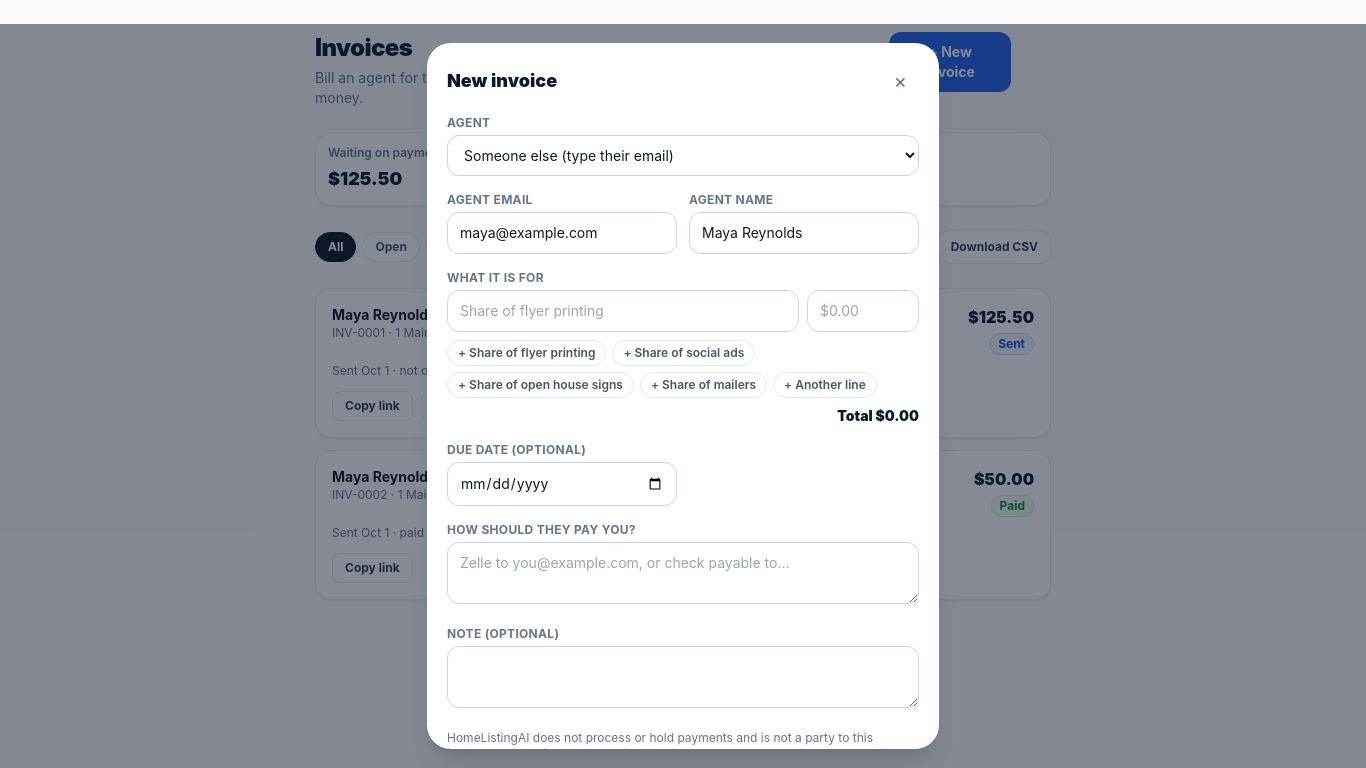
Test: LOInvoicesPage › opens the form pre-filled from the Partners page and sends the invoice
Expected: the field labelled "Agent email" holds "maya@example.com", [447,212,677,254]
Expected: the field labelled "Agent name" holds "Maya Reynolds", [689,212,919,254]
Step 1. Type "Share of flyers" into the field named "Line 1 description" → point(623, 311), box [447,290,799,332]
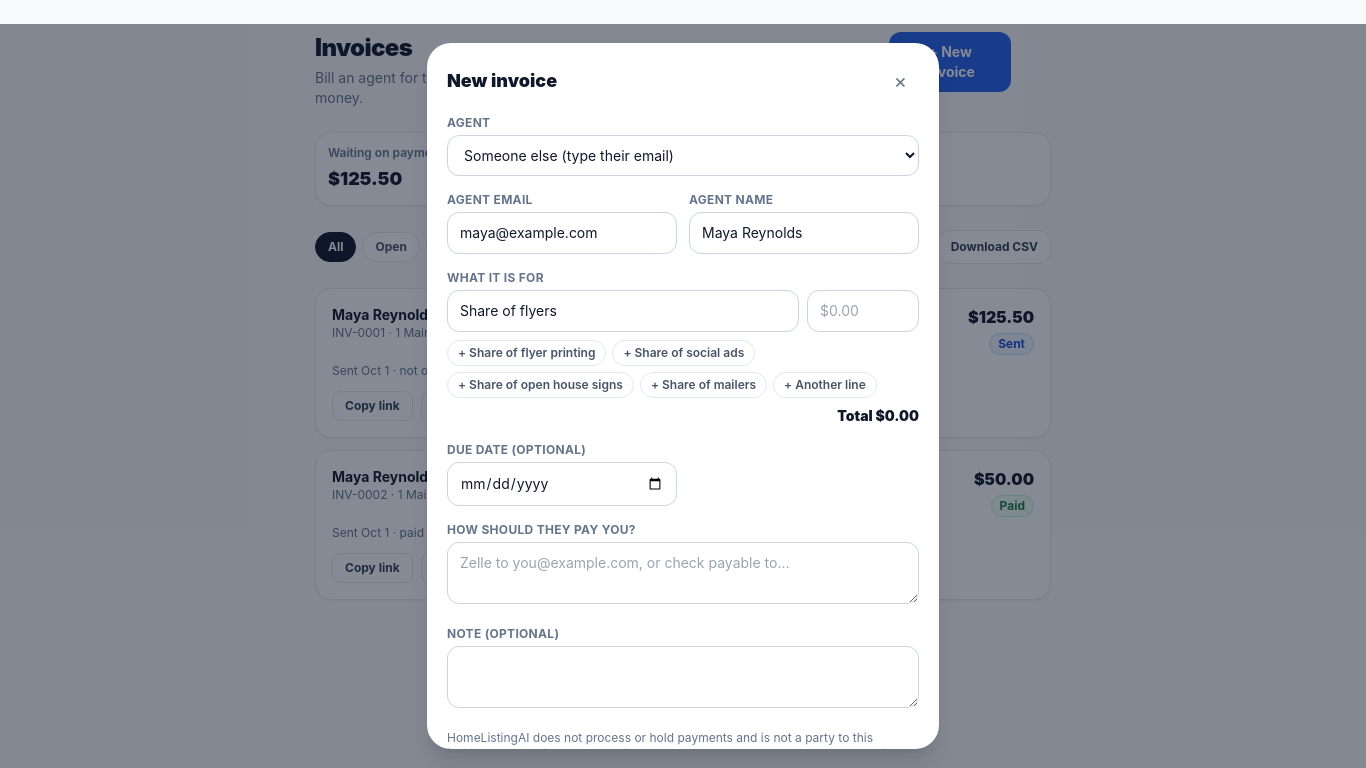
Step 2. Type "125.50" into the field named "Line 1 amount" → point(863, 311), box [807,290,919,332]
(page scrolled)
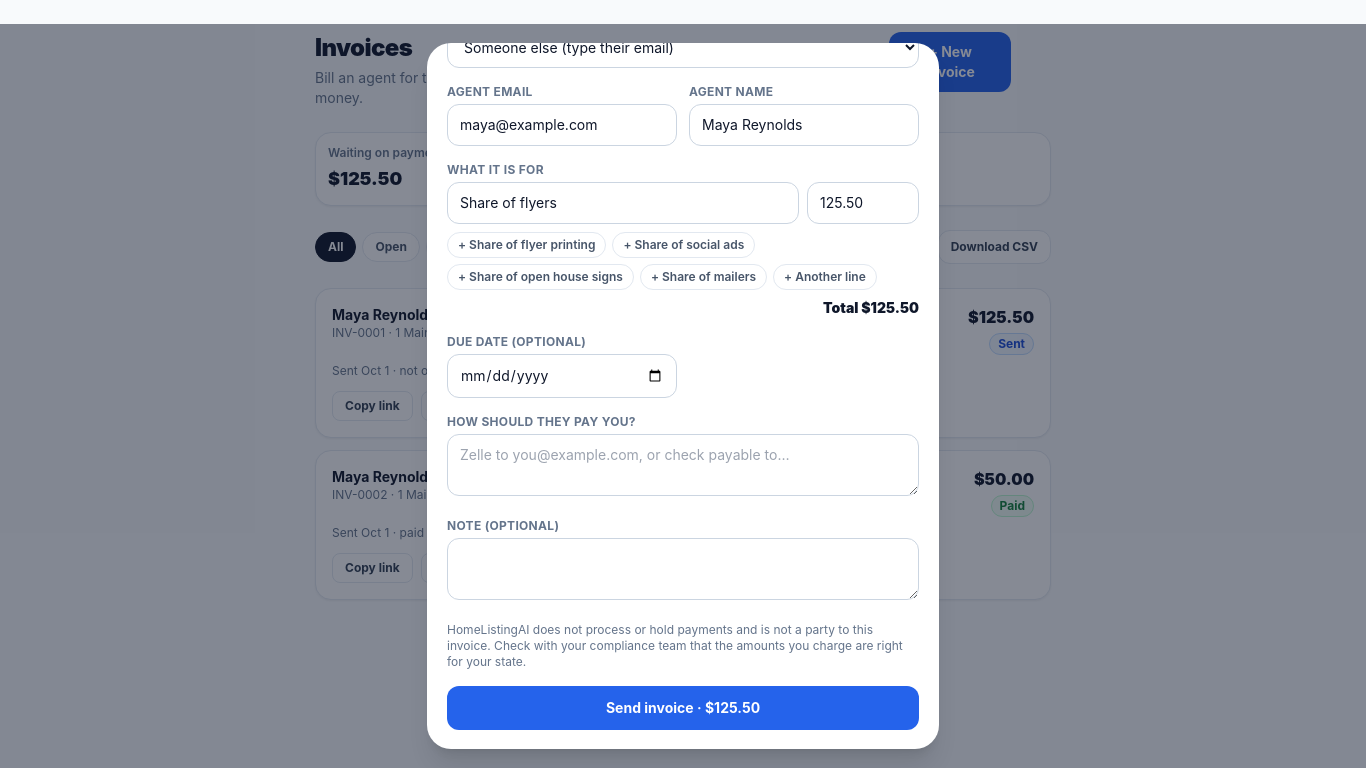
Expected: the text "does not process or hold payments" is shown, [447,622,903,669]
Now the button "Send invoice · $125.50" is enabled
Step 3. Click the button "Send invoice · $125.50" → point(683, 708), box [447,686,919,730]
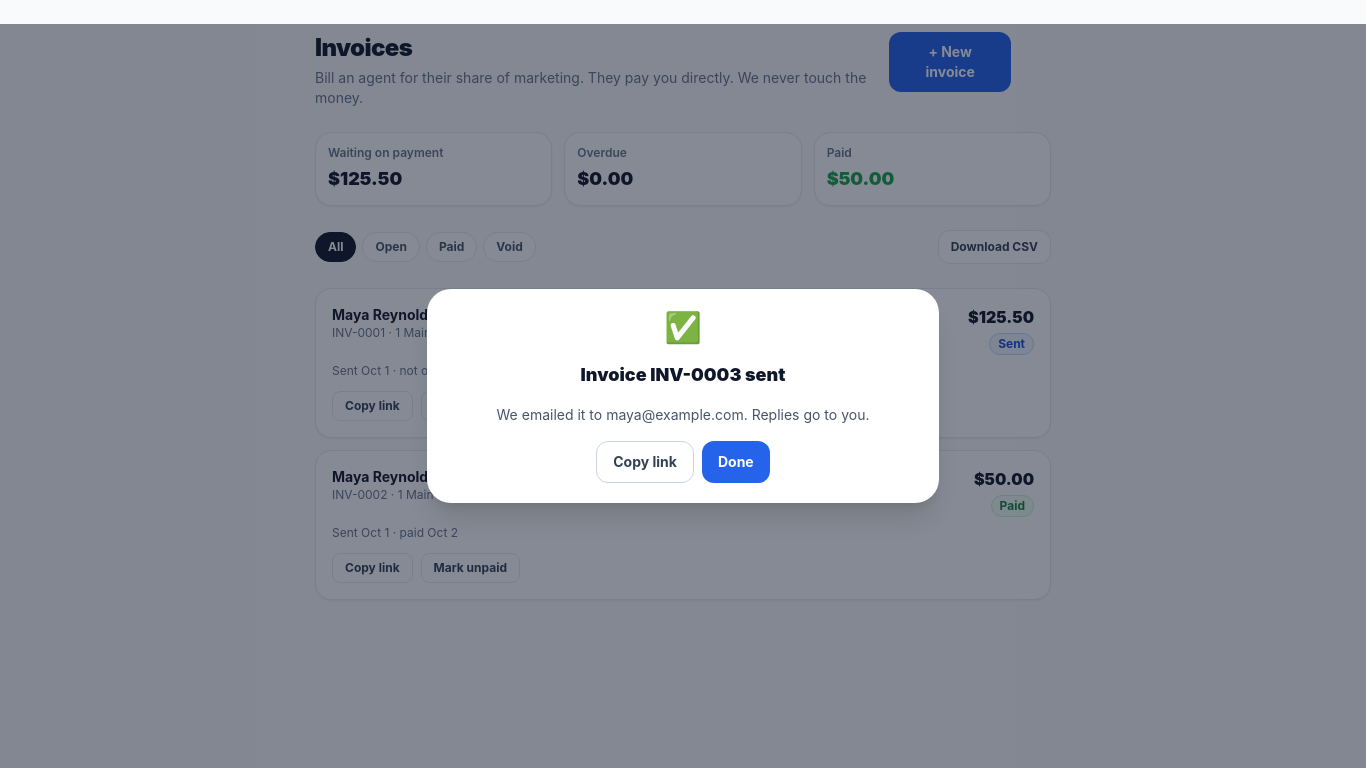
Now the heading "Invoice INV-0003 sent" is shown, box [581,364,785,385]
